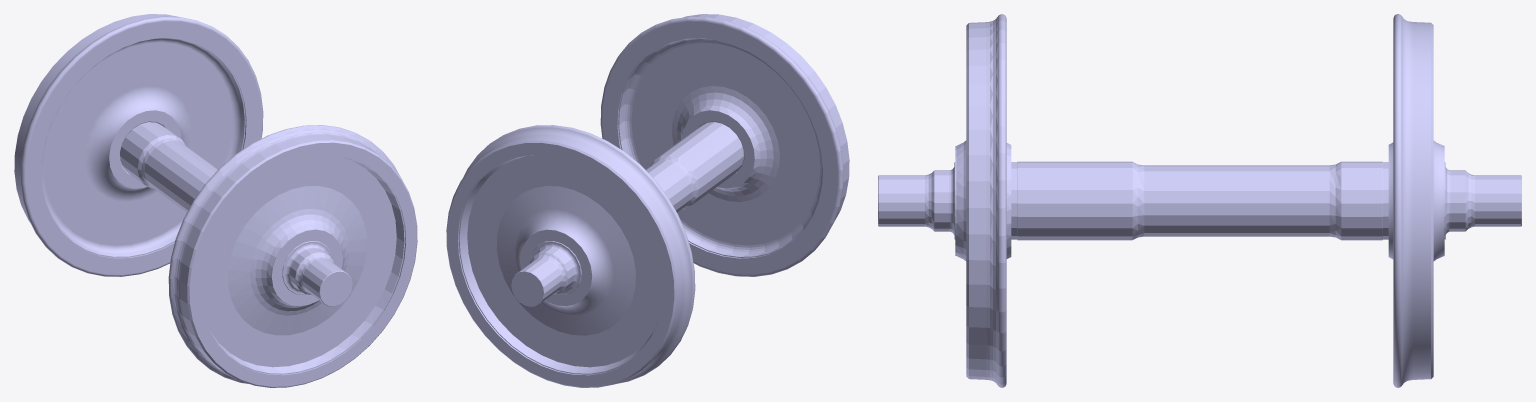
3 renders of one model, left to right at view 1: azimuth 30°, elevation 25°; view 2: azimuth 150°, elevation 25°; view 3: azimuth 270°, elevation 25°, orthographic. The views are drawn at different scales.
Parts seen in each view (by area): view 1: 零件几何体; view 2: 零件几何体; view 3: 零件几何体.
Boxes of the visible parts, box(x1,y1,x2,y2) form: 零件几何体: box(14, 14, 417, 387); 零件几何体: box(446, 14, 849, 387); 零件几何体: box(878, 14, 1521, 387).
Size of the model in its own units: 51.35 by 51.4 by 88.5.
